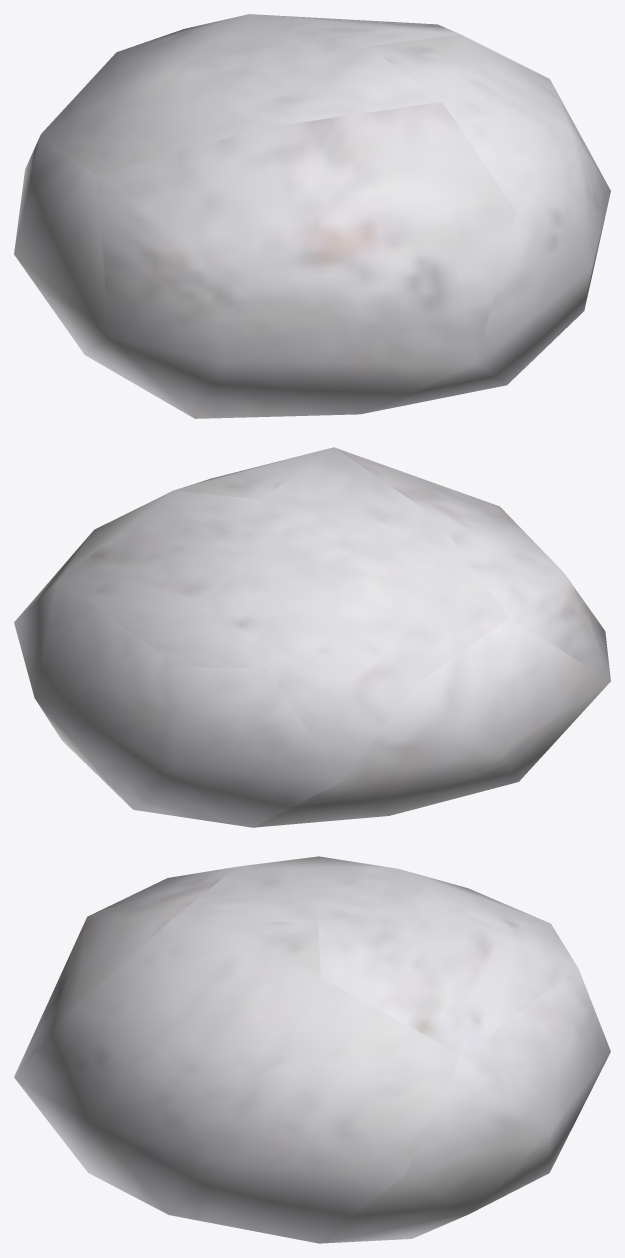
The model's file is marble.obj.
3 renders of one model, top to bottom at view 1: azimuth 30°, elevation 25°; view 2: azimuth 150°, elevation 25°; view 3: azimuth 270°, elevation 25°, orthographic. The views are drawn at different scales.
Parts seen in each view (by area): view 1: Icosphere; view 2: Icosphere; view 3: Icosphere.
Boxes of the visible parts, x1,y1,x2,y2 form: Icosphere: (14,14,610,418); Icosphere: (14,447,610,827); Icosphere: (14,856,610,1243).
Size of the model in its own units: 3.05 by 1.62 by 3.04.
